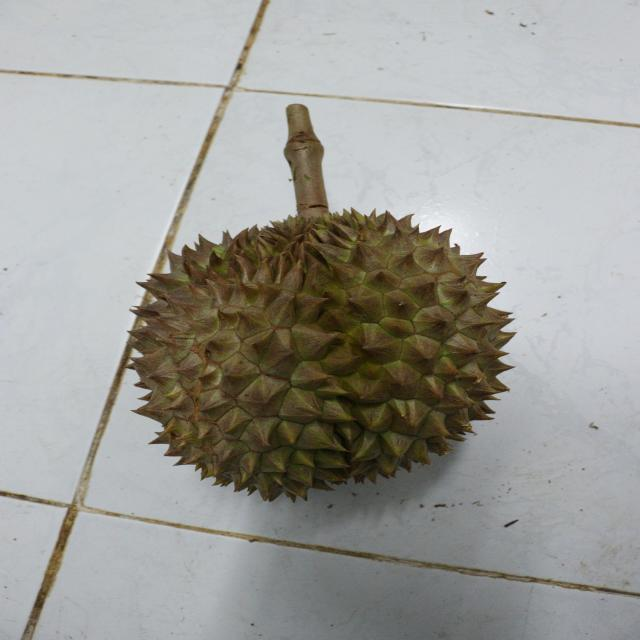mature: (116, 207, 519, 498)
